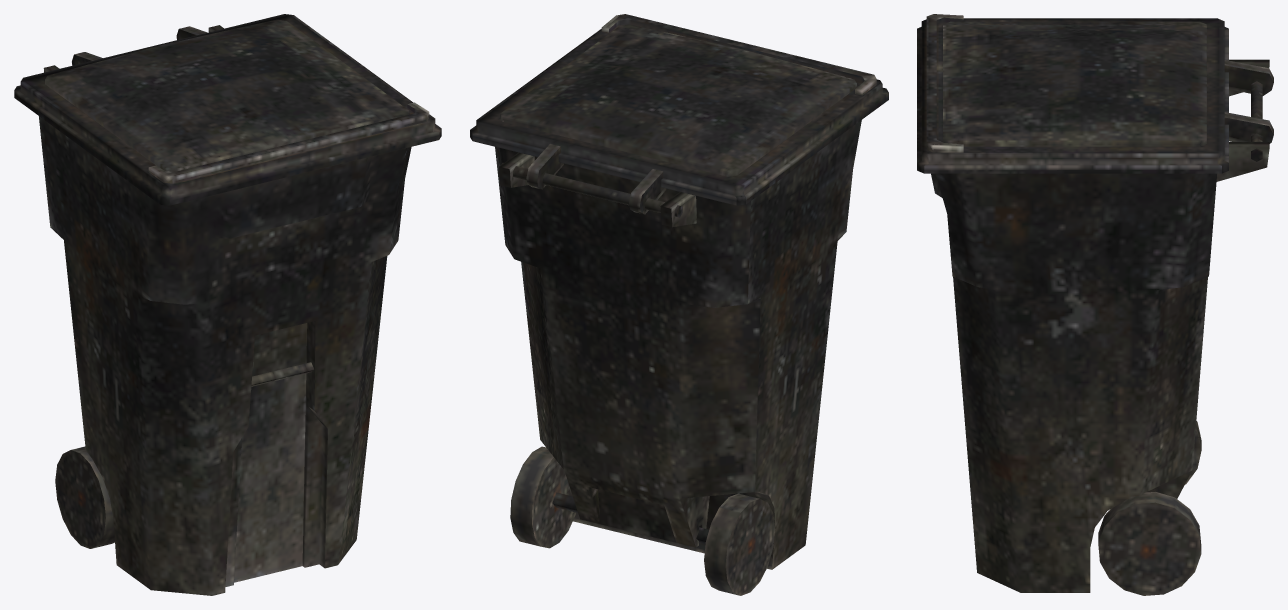
The model's file is 311_GarBageCart.fbx.
3 renders of one model, left to right at view 1: azimuth 30°, elevation 25°; view 2: azimuth 150°, elevation 25°; view 3: azimuth 270°, elevation 25°, orthographic. The views are drawn at different scales.
Parts seen in each view (by area): view 1: LOD_1_Group_0_Sub_1__sm30_083_GarbageCart01A_A_Mat1; view 2: LOD_1_Group_0_Sub_1__sm30_083_GarbageCart01A_A_Mat1; view 3: LOD_1_Group_0_Sub_1__sm30_083_GarbageCart01A_A_Mat1.
Boxes of the visible parts, bbox=[...] form: LOD_1_Group_0_Sub_1__sm30_083_GarbageCart01A_A_Mat1: bbox=[14, 14, 441, 595]; LOD_1_Group_0_Sub_1__sm30_083_GarbageCart01A_A_Mat1: bbox=[470, 14, 888, 595]; LOD_1_Group_0_Sub_1__sm30_083_GarbageCart01A_A_Mat1: bbox=[917, 14, 1273, 595].
Size of the model in its own units: 0.629 by 0.9856 by 0.6766.
